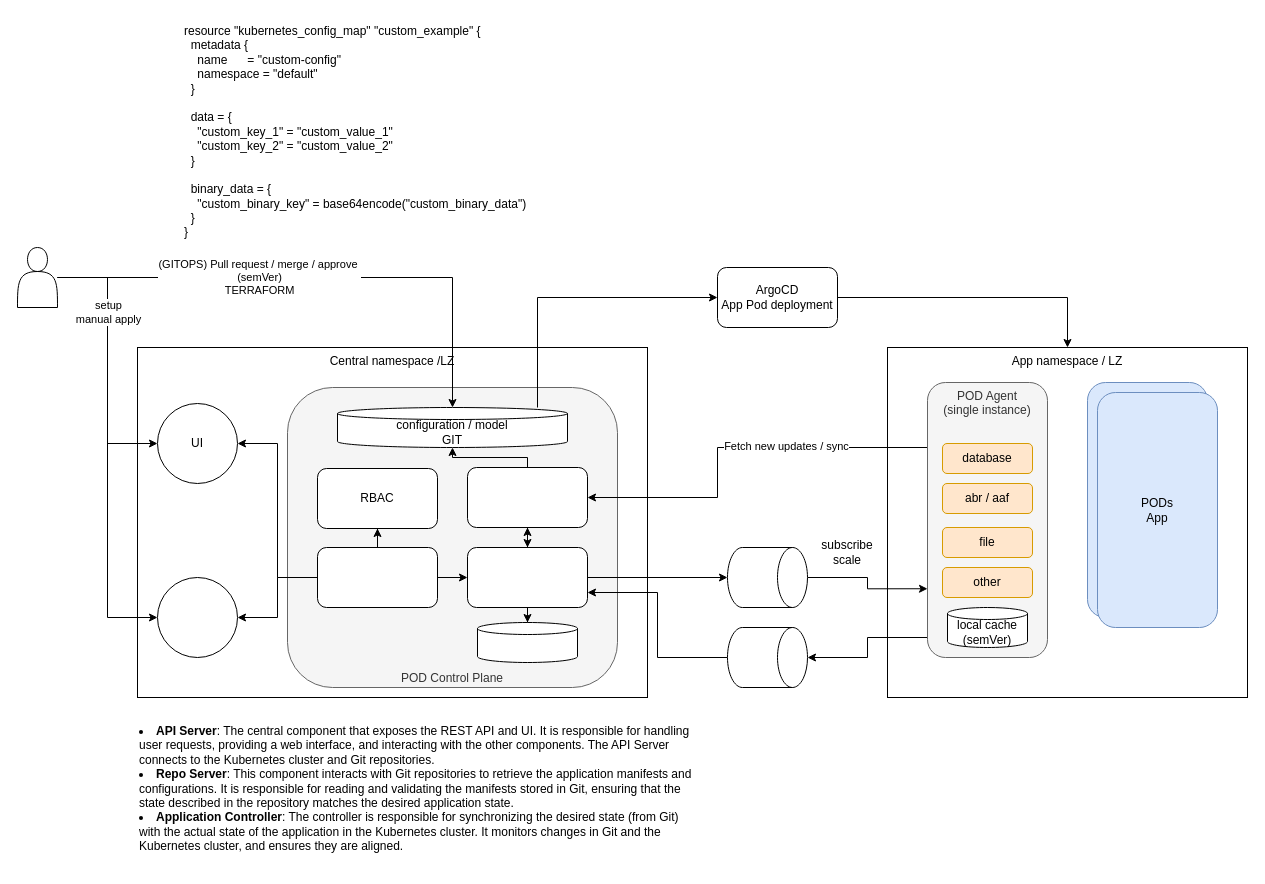
Image size: 1265x884. Some labels were removed from this diagram. The shapes that lost their labels are listed below. From the top down, each one's box as (x1, y1, x2, y2) in pixels, then its label:
(466, 466, 588, 528): Repo Server (validate / serve config)
(316, 546, 438, 608): Api Server (load balacer)
(466, 546, 588, 608): Controller (setup / apply/fallback/notify)
(726, 546, 808, 608): notification
(156, 576, 238, 658): CLI
(476, 622, 578, 662): state
(726, 626, 808, 688): status
